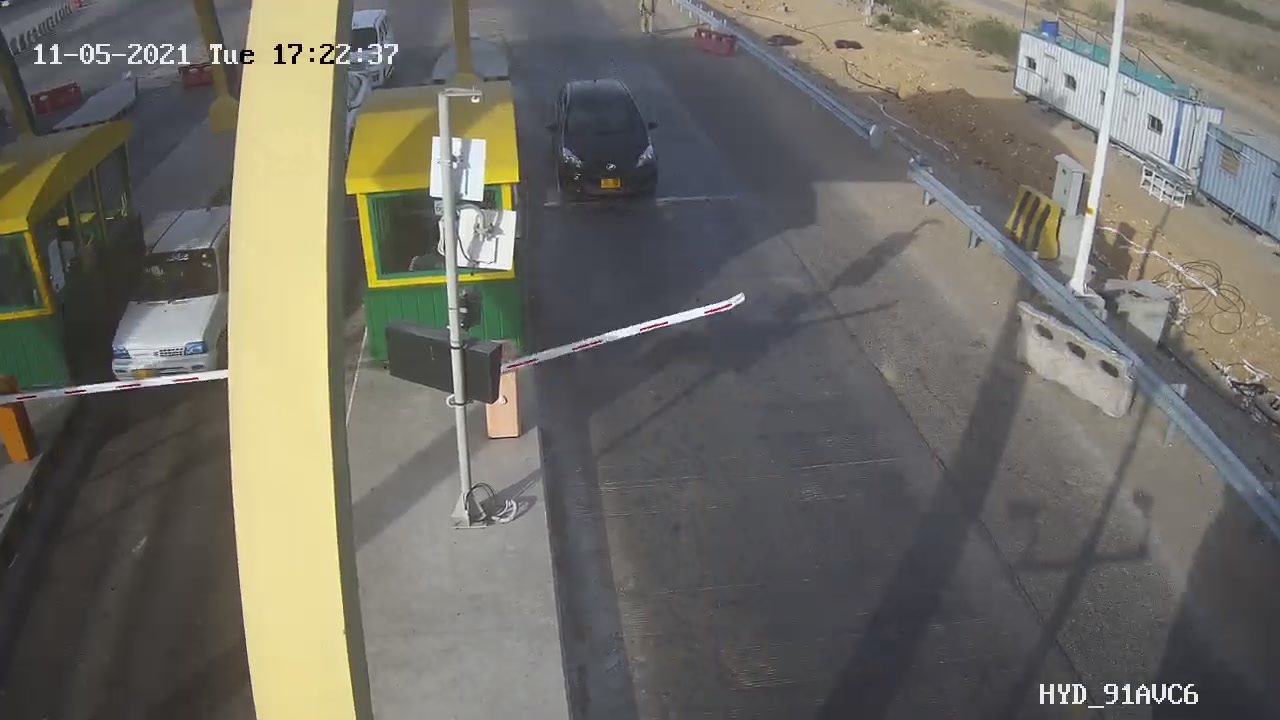F1: (534, 66, 673, 217)
